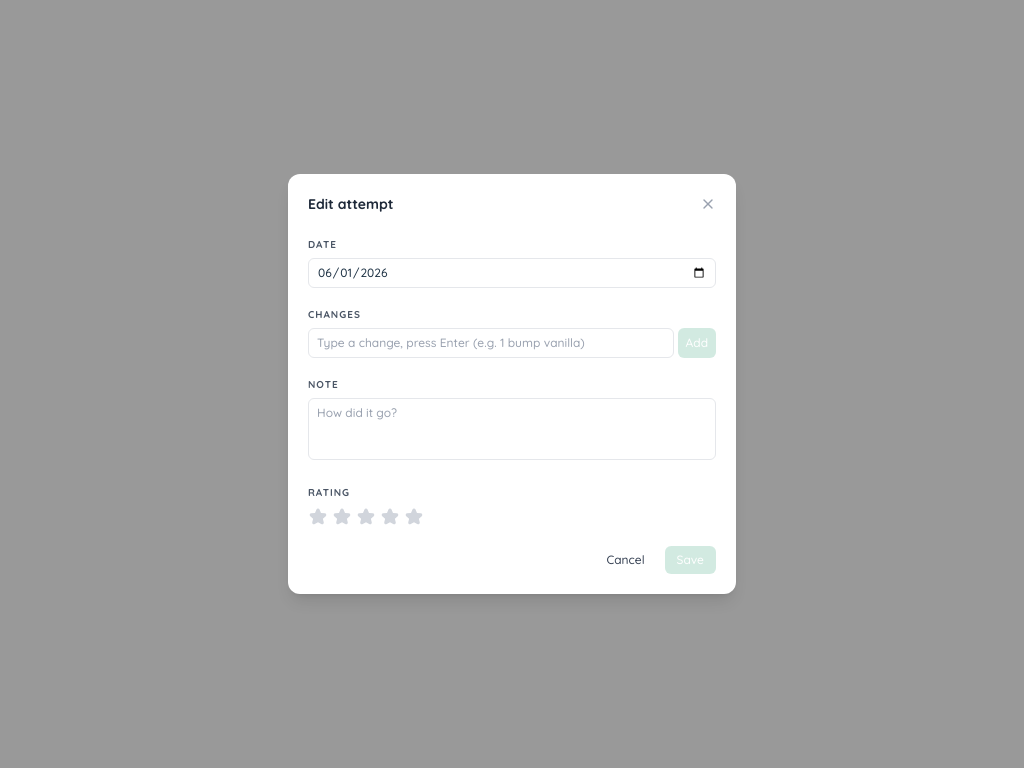
EditAttemptModal › enables save once a change is added
Type "less sugar" into the field labelled "Changes". click: (491, 343)
box: left=308, top=328, right=674, bottom=358
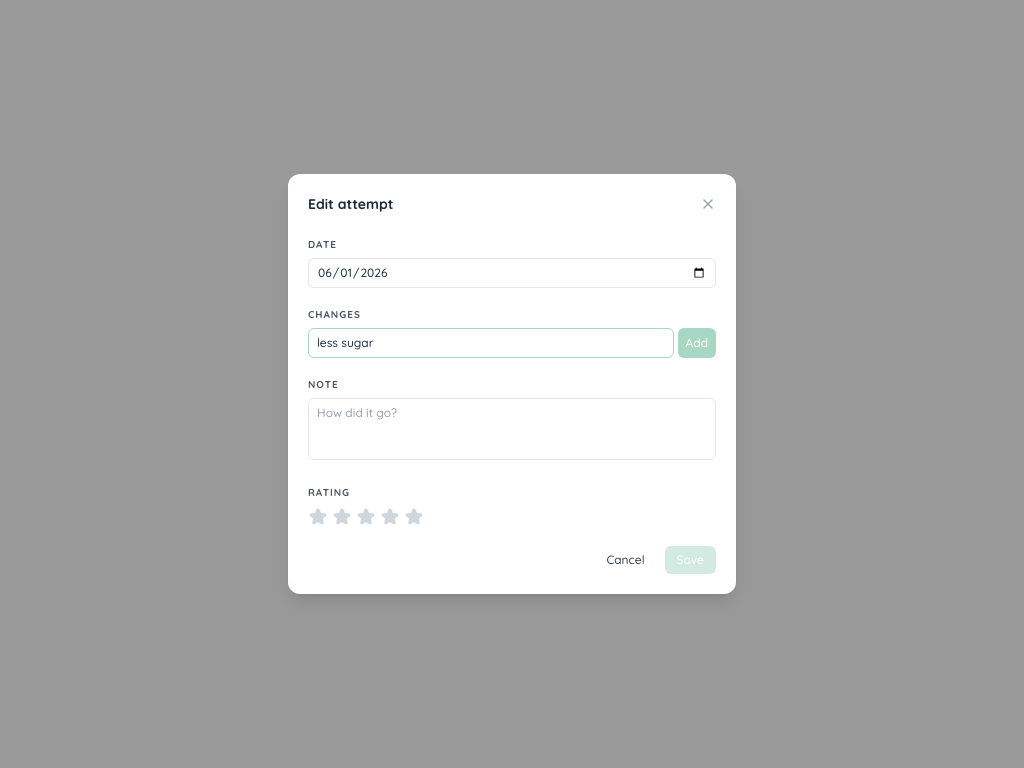
Click the button "Add". click: click(697, 343)
box: left=678, top=328, right=716, bottom=358
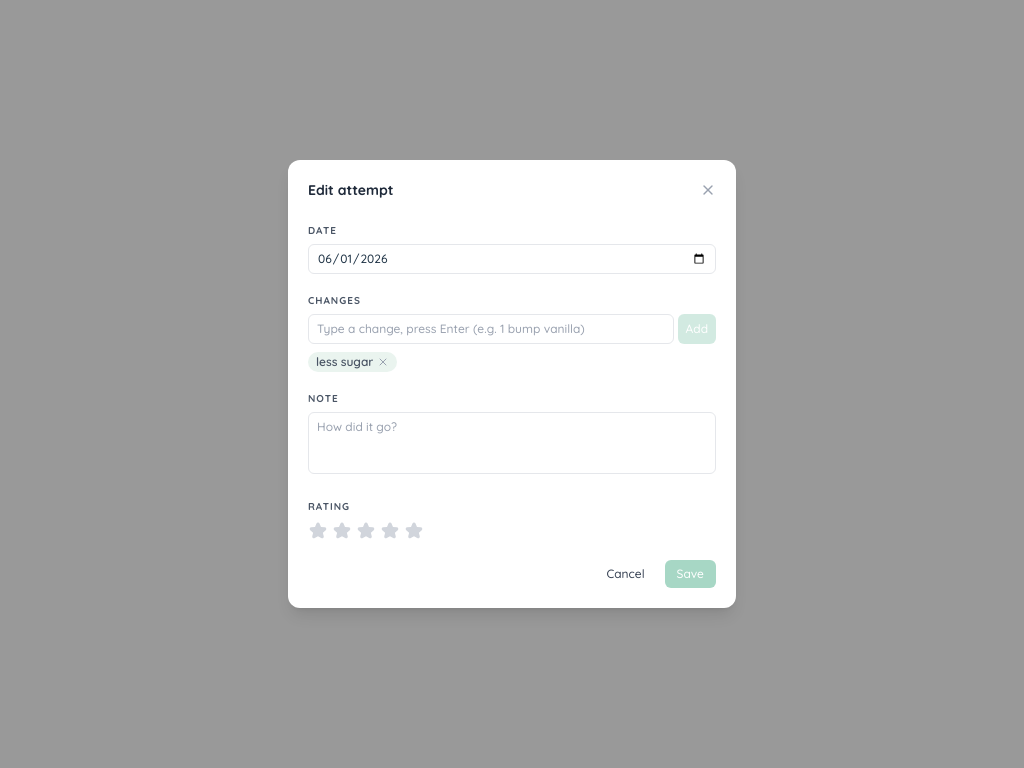
Check: the button "Save" is enabled, box left=665, top=560, right=716, bottom=588
